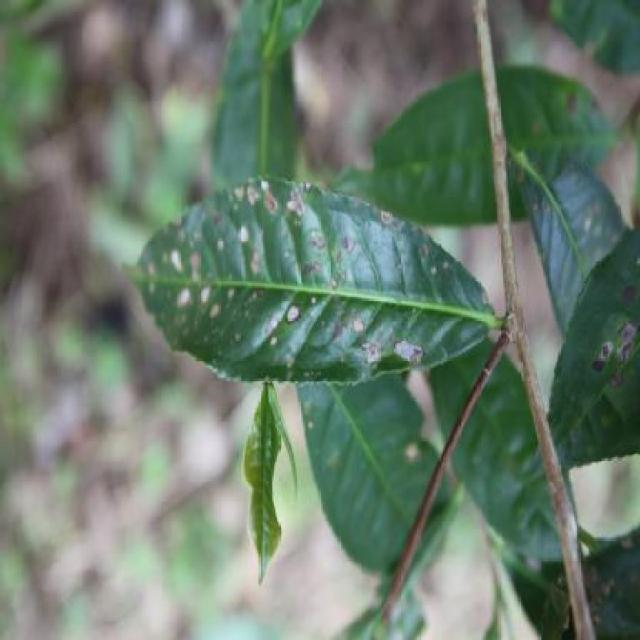Leaf rust of tea: (125, 176, 503, 382)
